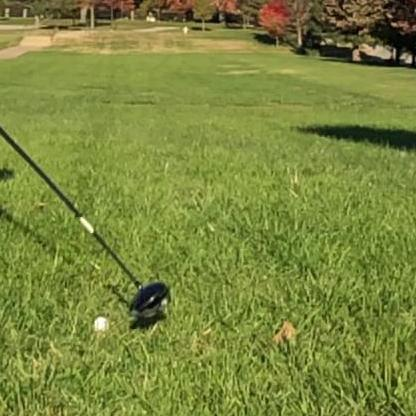golfball: (90, 313, 109, 330)
